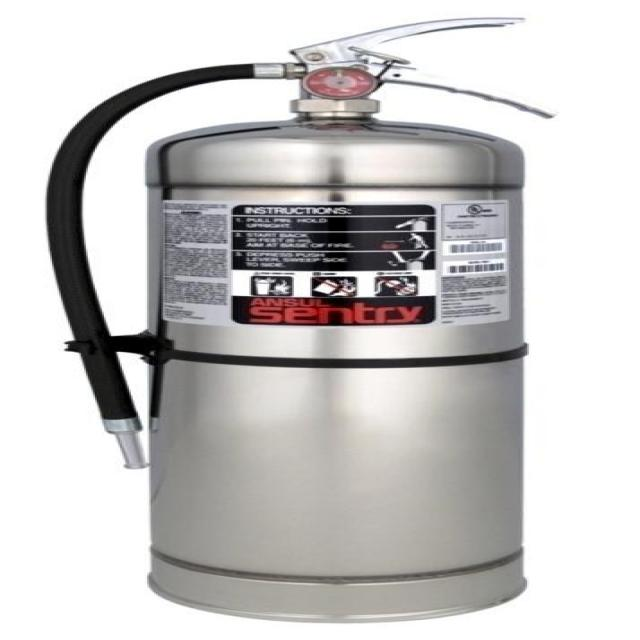fire_extinguisher: (26, 10, 584, 628)
